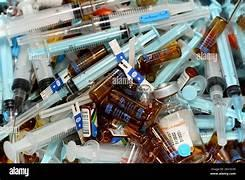Iv_Bottle: (153, 81, 207, 162), (101, 90, 160, 128), (136, 41, 181, 81), (68, 45, 107, 76), (89, 69, 125, 102), (205, 132, 222, 162), (225, 141, 244, 162)
Syringe: (29, 9, 208, 56), (82, 1, 195, 32), (4, 117, 75, 160), (153, 23, 201, 86), (0, 4, 81, 38), (92, 1, 194, 26), (195, 0, 240, 53), (217, 31, 243, 122), (126, 7, 209, 34), (59, 54, 117, 89), (16, 87, 68, 125), (205, 53, 226, 145), (17, 88, 68, 123), (66, 140, 137, 162), (12, 45, 33, 111), (12, 43, 32, 111), (0, 37, 14, 120), (28, 55, 53, 90), (195, 115, 215, 129), (226, 128, 244, 141), (0, 68, 3, 125)
